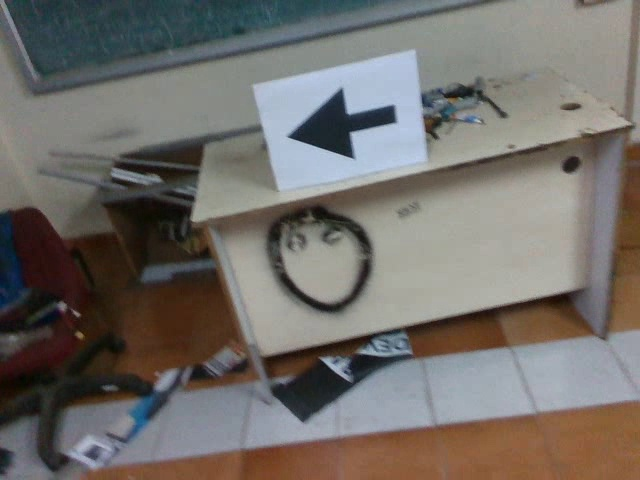Left: (279, 83, 404, 163)
